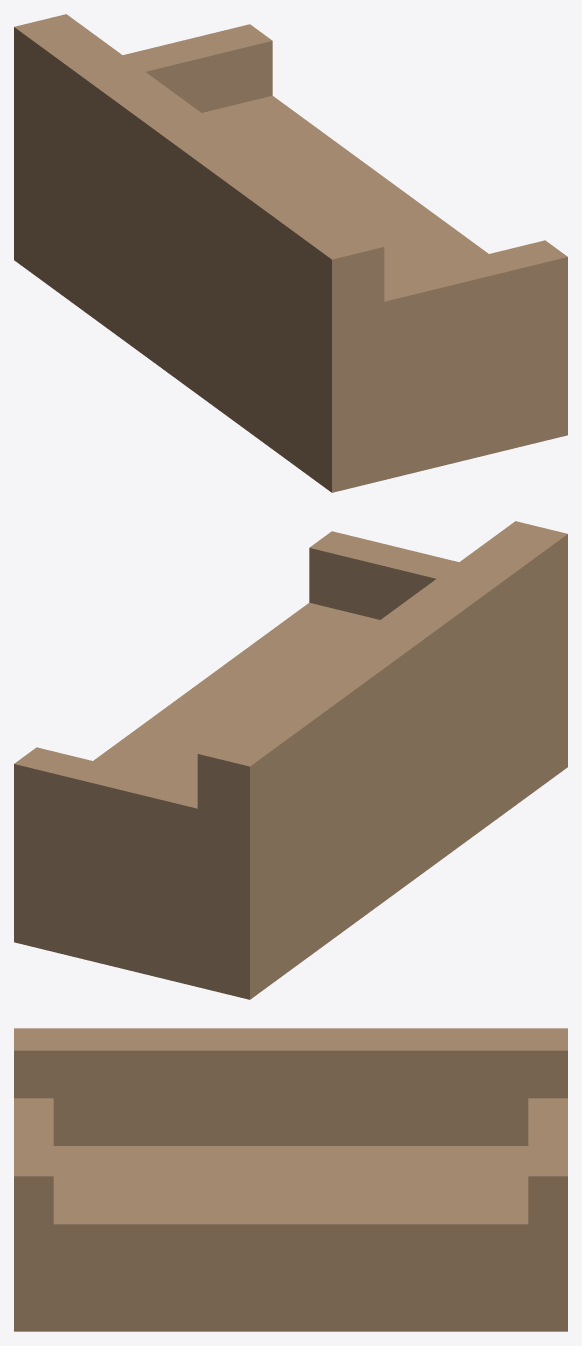
Rendered from sofa-2100.glb.
3 renders of one model, top to bottom at view 1: azimuth 30°, elevation 25°; view 2: azimuth 150°, elevation 25°; view 3: azimuth 270°, elevation 25°, orthographic. The views are drawn at different scales.
Parts seen in each view (by area): view 1: sofa-2100; view 2: sofa-2100; view 3: sofa-2100.
Part boxes in pixels (x1,y1,x2,y2): sofa-2100: (14, 14, 567, 492); sofa-2100: (14, 521, 567, 999); sofa-2100: (14, 1028, 567, 1331).
Size of the model in its own units: 0.9 by 0.85 by 2.1.
